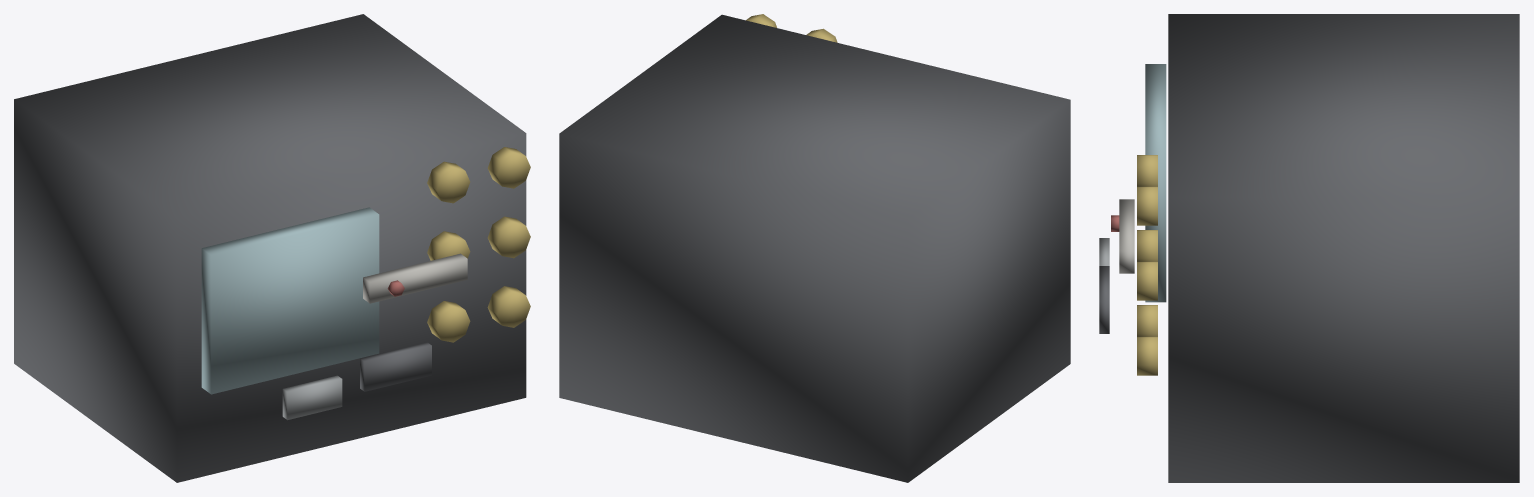
The model's file is oscilloscope__weathered.glb.
3 renders of one model, left to right at view 1: azimuth 30°, elevation 25°; view 2: azimuth 150°, elevation 25°; view 3: azimuth 270°, elevation 25°, orthographic. The views are drawn at different scales.
Visible parts, largest first — view 1: world; view 2: world; view 3: world.
Boxes of the visible parts, <box> form: world: <box>14,14,530,482</box>; world: <box>559,14,1070,482</box>; world: <box>1099,14,1519,482</box>.
Bounding box in the file's own units: 0.52 × 0.3762 × 0.5026.
